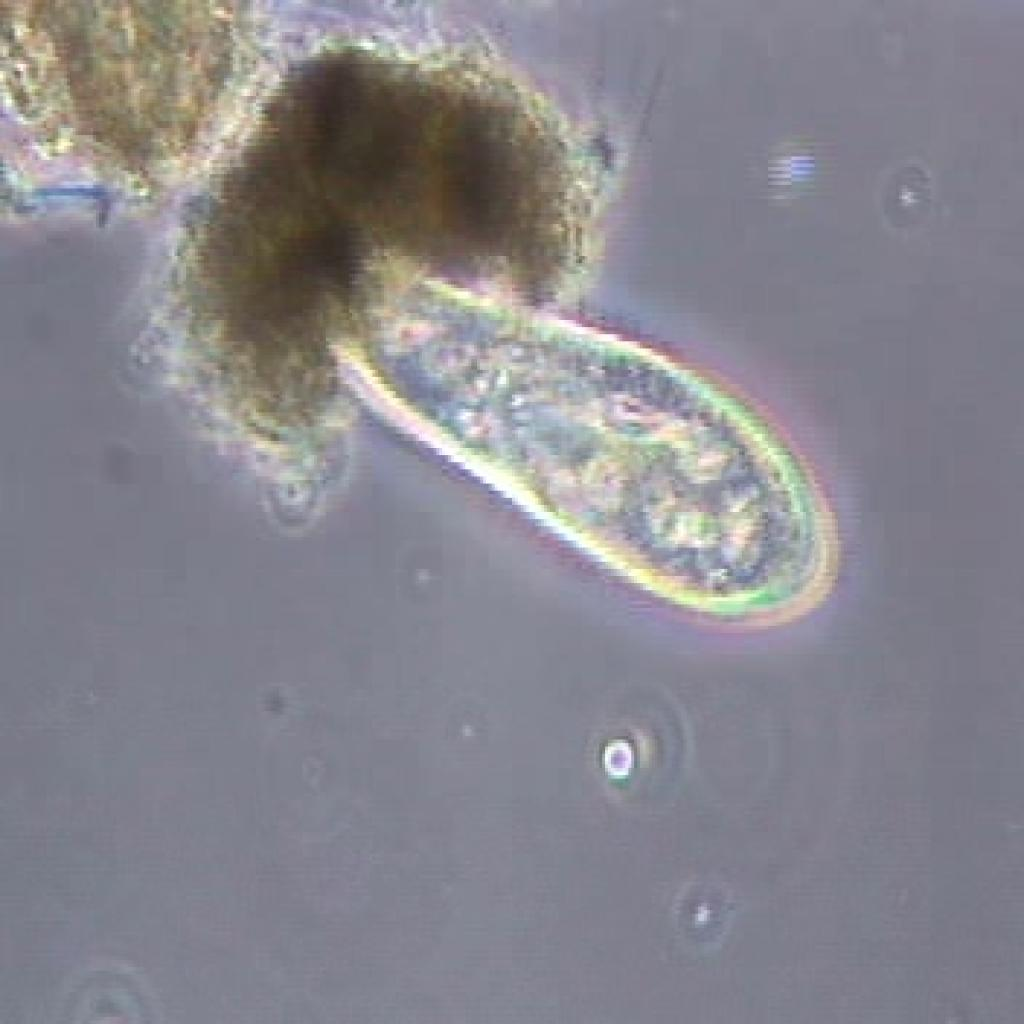Paramecium: (258, 220, 904, 662)
